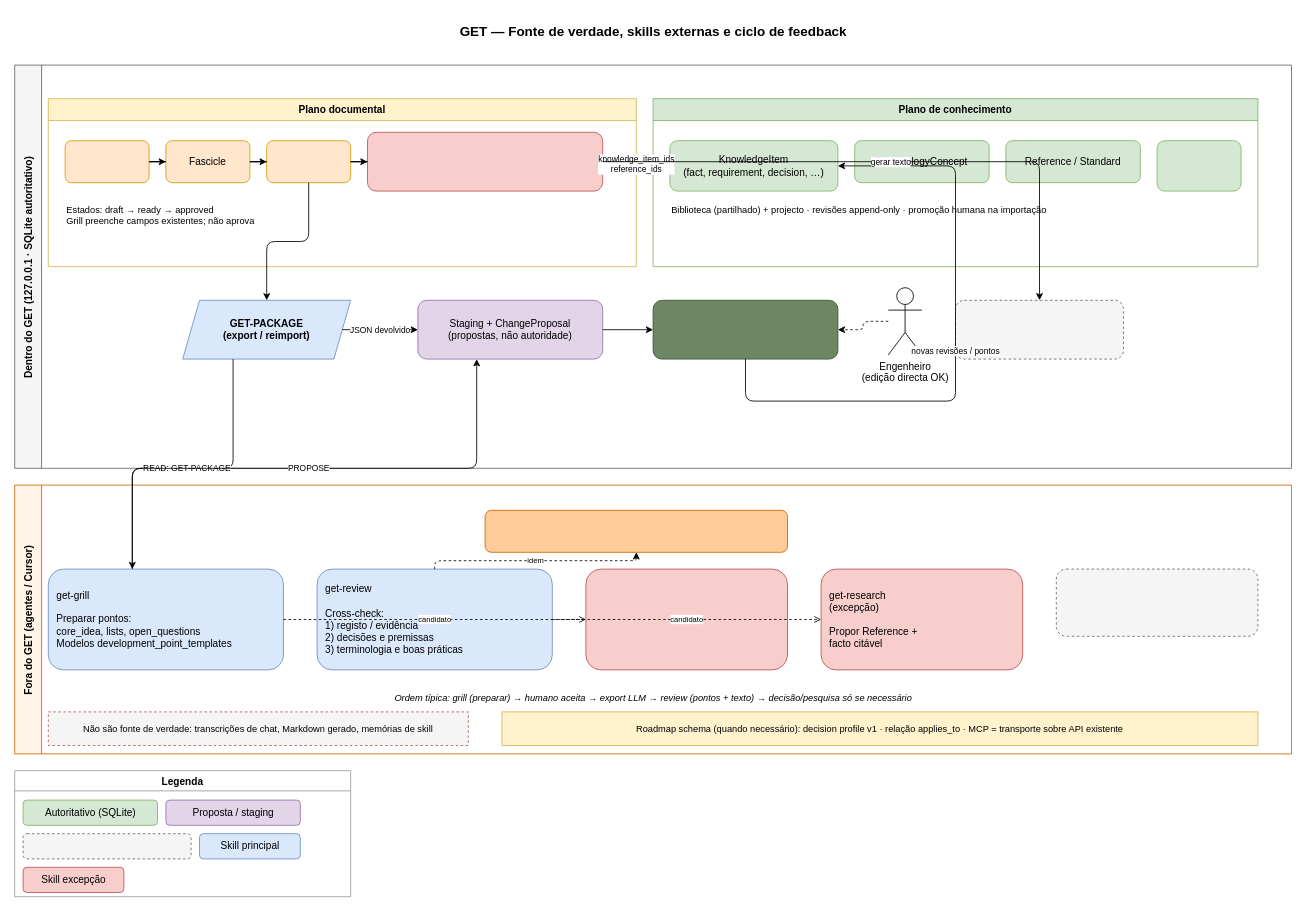
Some shapes in this 1306 by 911 pixel diagram are drawn without their labels. The shapes that lost their labels are listed below. From the top down, each one's centre as x and y in pixels, then its label:
At (106,161): "Project".
At (308,161): "Block".
At (485,161): "DevelopmentPoint (core_idea, lists, premissas)".
At (1198,165): "Premise (confidence, reference_id)".
At (745,329): "Revisão humana + Consolidate (COMMIT)".
At (1039,329): "GET-LLM / MD / PDF (projecção, não reimportável)".
At (636,530): "READ → REASON → PROPOSE (skills não escrevem SQLite)".
At (686,619): "get-decision (excepção) Propor KnowledgeItem knowledge_type=decision".
At (1156,602): "Exportação GET-LLM (já na app — não é skill)".
At (106,846): "Gerado (não reimportável)".
